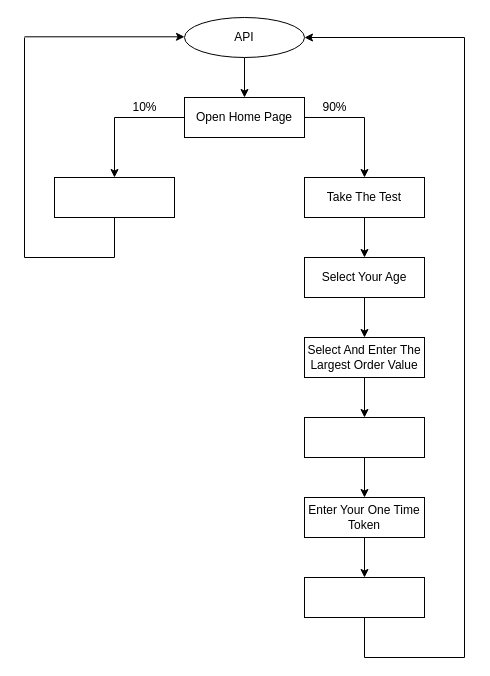
Some shapes in this 490 by 676 pixel diagram are drawn without their labels. The shapes that lost their labels are listed below. From the top down, each one's box as (x1, y1, x2, y2) in pixels, then its label:
(54, 176, 174, 218): Click "Find Out More" Button
(304, 416, 424, 458): Click Next Button
(304, 576, 424, 618): Done Page
